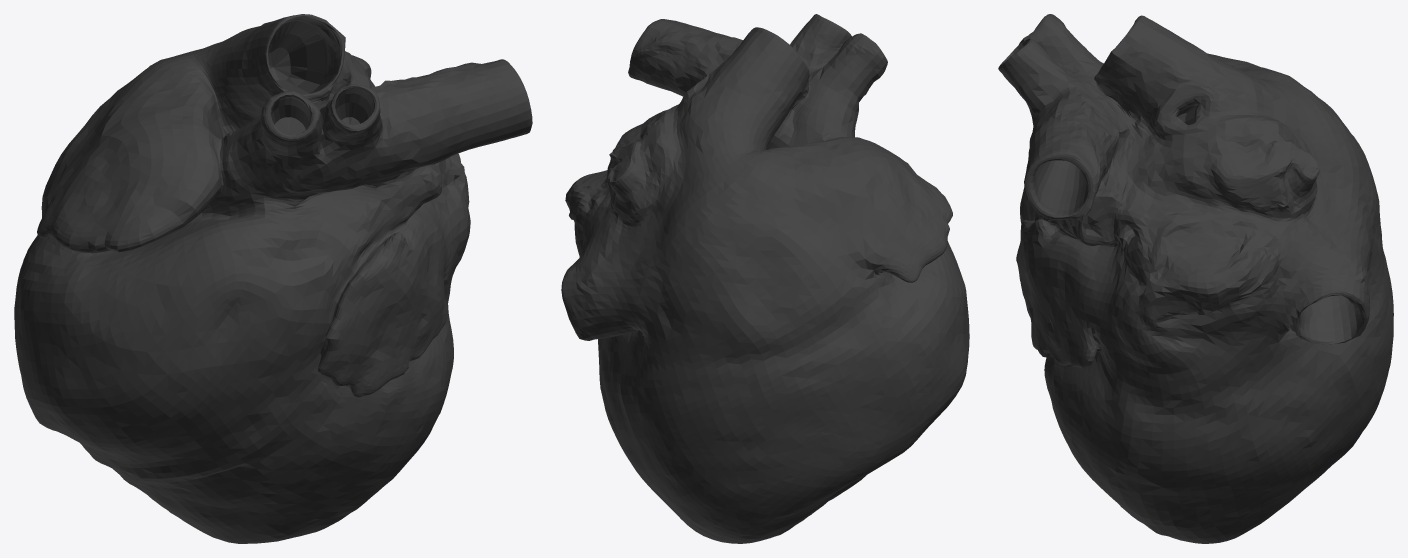
Rendered from heart_LO.glb.
3 views of the same model, side by side, from view 1: azimuth 30°, elevation 25°; view 2: azimuth 150°, elevation 25°; view 3: azimuth 270°, elevation 25° (orthographic). The views are drawn at different scales.
Parts seen in each view (by area): view 1: heart_LO; view 2: heart_LO; view 3: heart_LO.
Part boxes in pixels (x1=…): heart_LO: x1=14, y1=14, x2=532, y2=543; heart_LO: x1=561, y1=14, x2=969, y2=543; heart_LO: x1=998, y1=14, x2=1393, y2=543.
Bounding box in the file's own units: 0.00882 × 0.0108 × 0.00761.
Materials: 1 (1 with a texture image).
